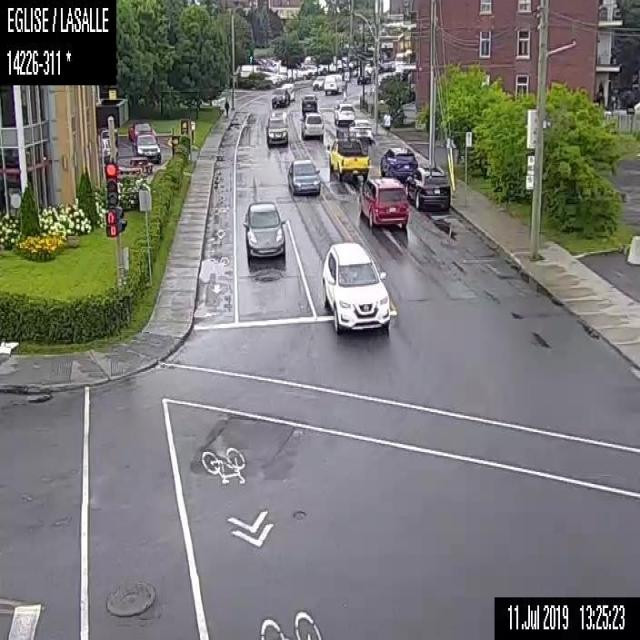pedestrian: (381, 108, 391, 137), (223, 97, 229, 118)
vehicle: (319, 240, 391, 333), (358, 176, 409, 228), (242, 200, 284, 256), (325, 136, 372, 182), (405, 163, 450, 211), (378, 145, 418, 179), (286, 156, 319, 193), (132, 133, 160, 162), (299, 110, 324, 138), (265, 115, 287, 145), (349, 117, 373, 140), (332, 102, 354, 125), (127, 121, 156, 137), (270, 88, 290, 109), (298, 92, 318, 112), (323, 73, 342, 93), (296, 64, 312, 80), (312, 74, 323, 90)
